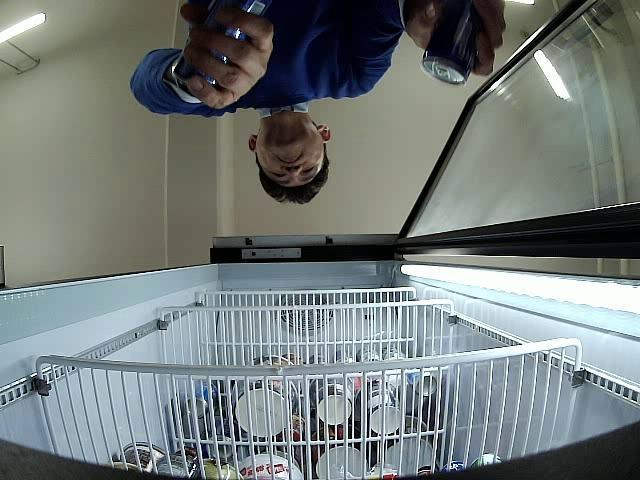16_hot6: (175, 0, 272, 97), (422, 0, 486, 86)
